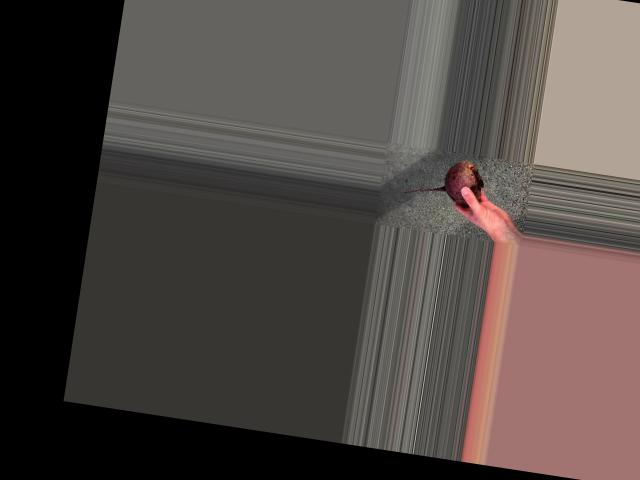beet: (403, 152, 486, 206)
